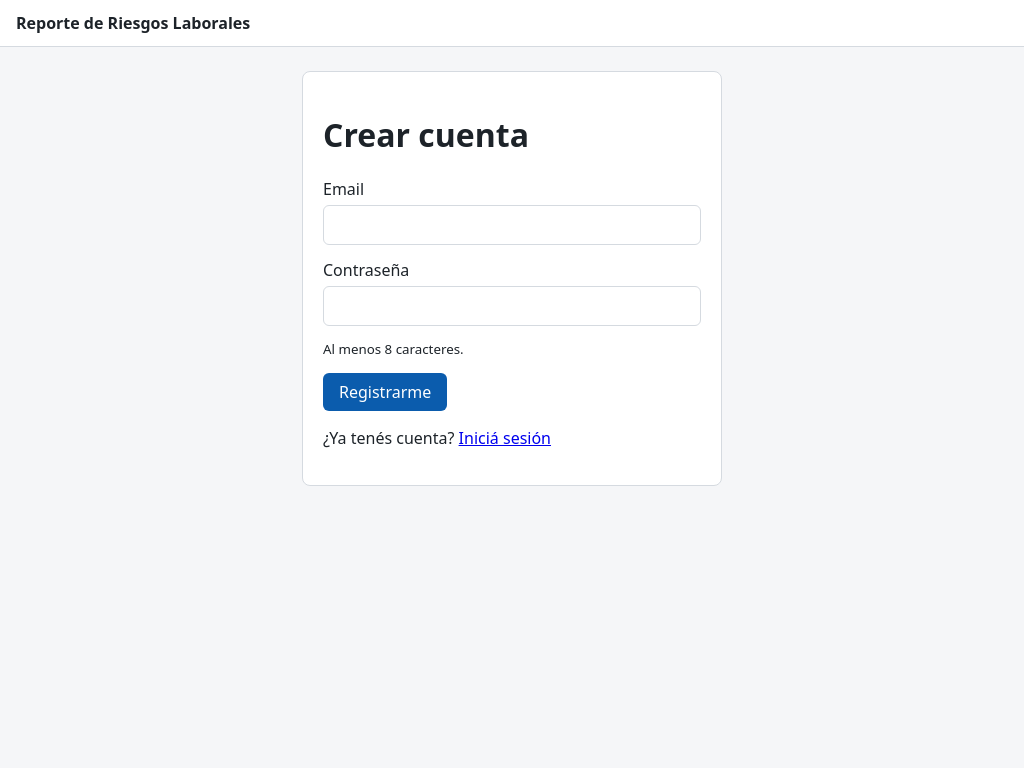
it: Registro › muestra el error de la API (email duplicado)
This screenshot has width=1024, height=768.
Type "ana@riesgos.test" into the field labelled "Email".
click(512, 225); type("ana@riesgos.test")  # box [323, 205, 701, 245]
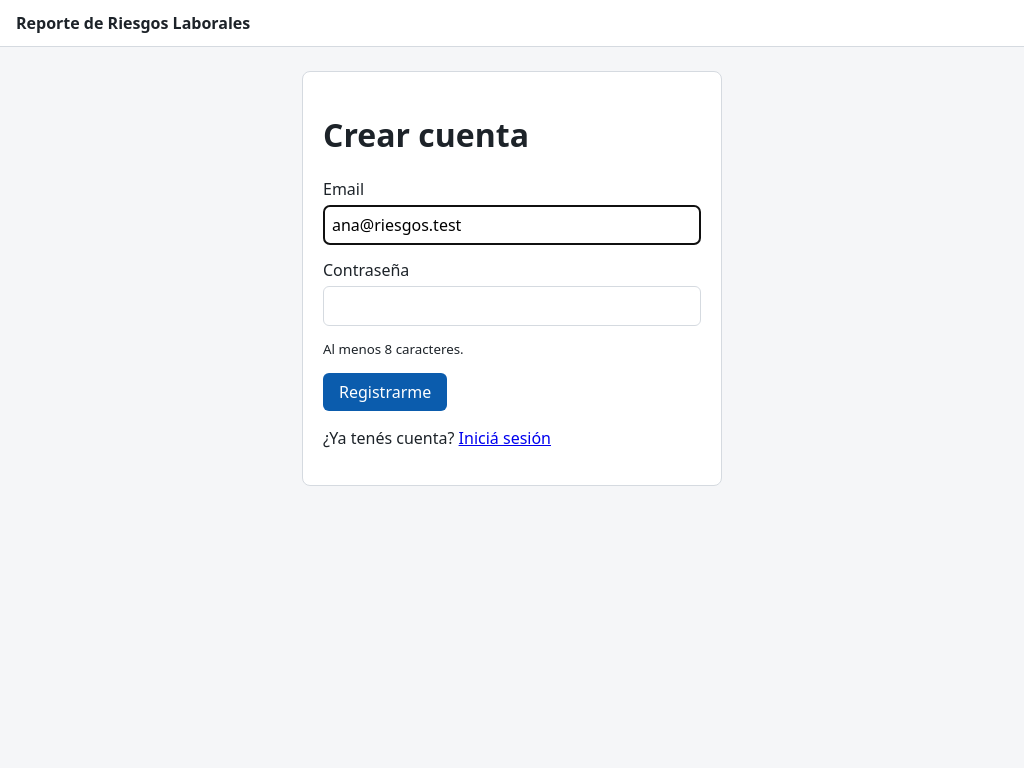
Type "Clave12345" into the password field labelled "Contraseña".
click(512, 306); type("Clave12345")  # box [323, 286, 701, 326]
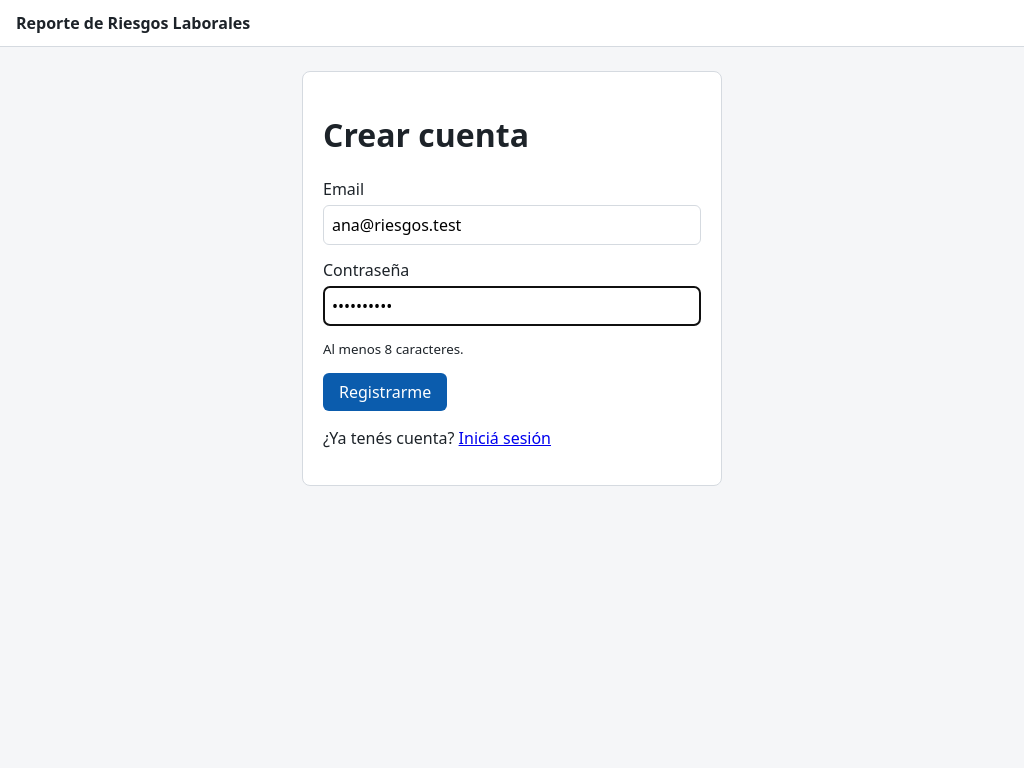
Click the button "Registrarme".
click(385, 392)  # box [323, 373, 447, 411]
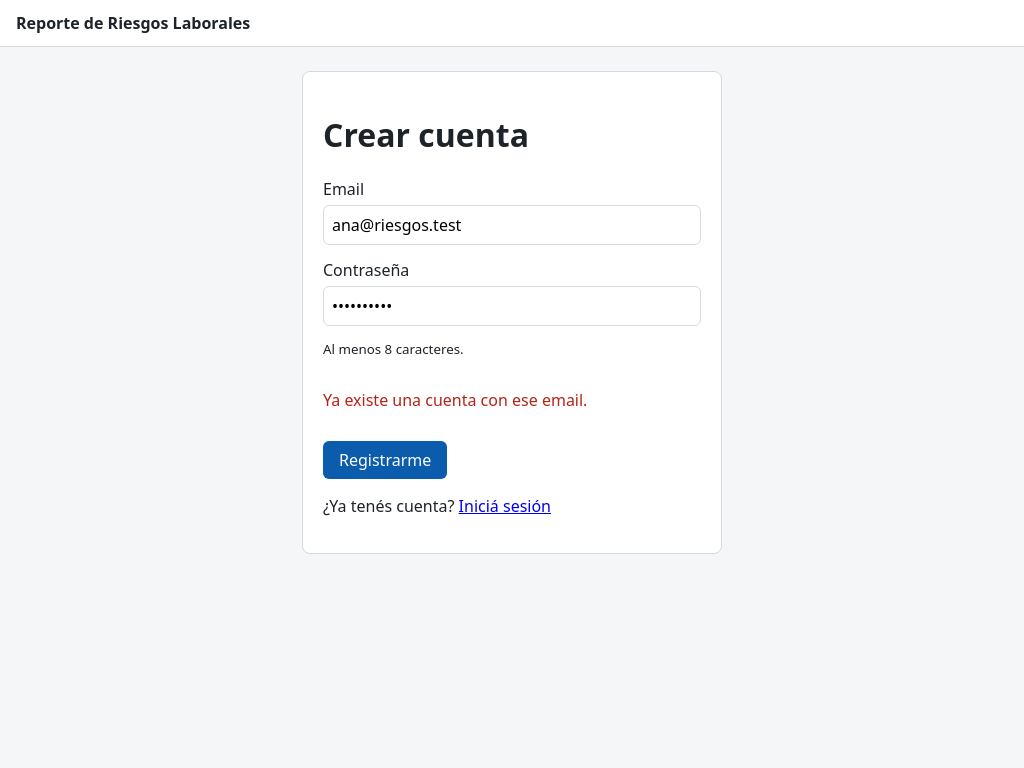
Expected: the message reads "Ya existe una cuenta con ese email.", [323, 389, 587, 411]
